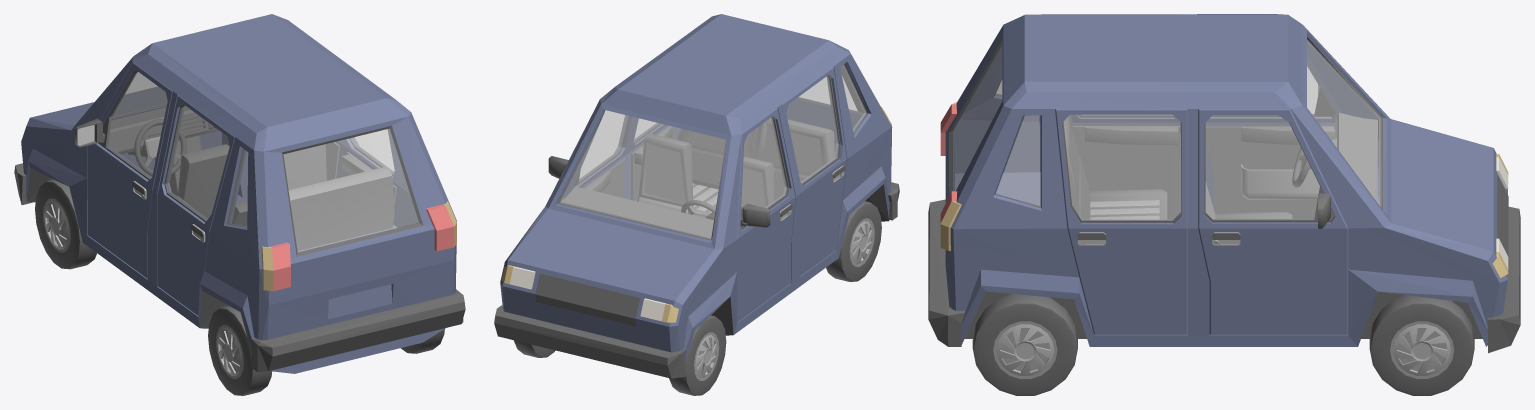
The model's file is Coche_2.fbx.
3 renders of one model, left to right at view 1: azimuth 30°, elevation 25°; view 2: azimuth 150°, elevation 25°; view 3: azimuth 270°, elevation 25°, orthographic. The views are drawn at different scales.
Visible parts, largest first — view 1: Chassis, Windows, Interior, FL_Door, RL_Door, FL_Wheel, RL_Wheel, RR_Door, Brake_Lights, Steerwheel, FR_Door, Turn_Lights_l (+1 smaller); view 2: Chassis, Windows, Interior, FL_Door, RL_Door, FR_Door, RL_Wheel, FL_Wheel, RR_Door, Front_Lights, FR_Wheel, Steerwheel; view 3: Chassis, FR_Door, RR_Door, Windows, FL_Door, RR_Wheel, FR_Wheel, RL_Door, Interior, Turn_Lights_r, Brake_Lights.
Part boxes in pixels (x1,y1,x2,y2): Chassis: (14,14,465,373); Windows: (114,72,418,251); Interior: (108,106,394,250); FL_Door: (75,62,172,278); RL_Door: (157,95,235,315); FL_Wheel: (35,179,96,269); RL_Wheel: (208,305,272,395); RR_Door: (341,129,398,224); Brake_Lights: (270,204,454,291); Steerwheel: (134,119,186,175); FR_Door: (325,140,341,180); Turn_Lights_l: (261,246,273,291); Chassis: (494,14,899,378); Windows: (560,65,866,238); Interior: (562,118,834,237); FL_Door: (737,108,795,321); RL_Door: (782,67,846,276); FR_Door: (548,110,634,197); RL_Wheel: (826,201,881,281); FL_Wheel: (669,315,726,395); RR_Door: (630,118,675,201); Front_Lights: (509,266,665,321); FR_Wheel: (514,340,555,357); Steerwheel: (681,200,715,219); Chassis: (928,14,1520,353); FR_Door: (1198,109,1348,334); RR_Door: (1055,109,1187,334); Windows: (953,39,1381,207); FL_Door: (1205,55,1341,218); RR_Wheel: (972,294,1077,395); FR_Wheel: (1369,295,1474,395); RL_Door: (1070,114,1180,219); Interior: (1063,112,1377,219); Turn_Lights_r: (940,201,1508,277); Brake_Lights: (940,104,957,222).
Size of the model in its own units: 59.04 by 59.15 by 108.
